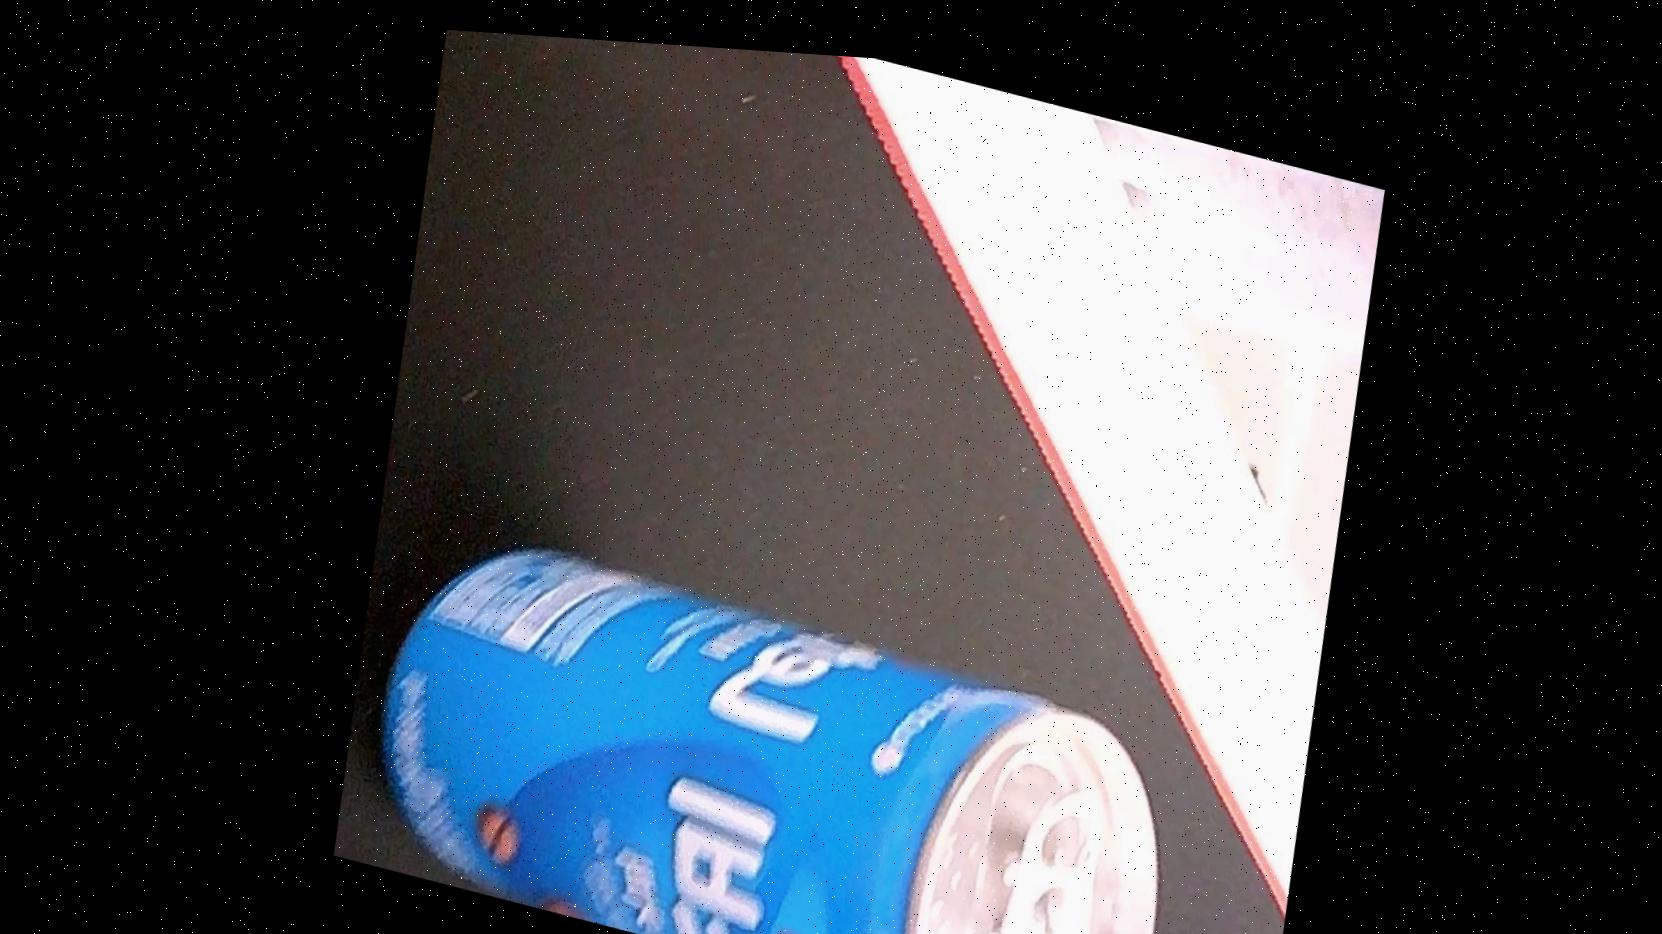letsbe: (330, 497, 1193, 934)
